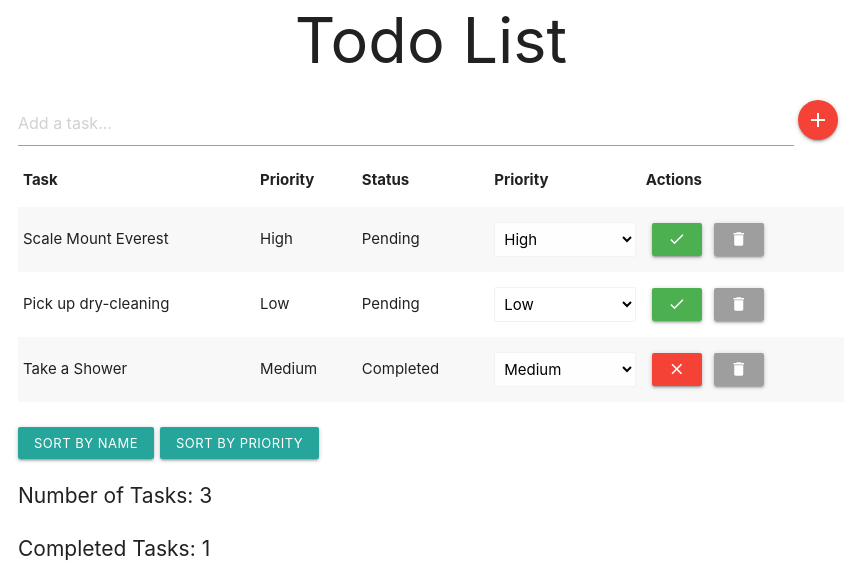
Test case: App › should tell the user that there are no items when all tasks have been deleted
Click the button with id "delete-item".
click(739, 370)  # box [714, 353, 764, 386]
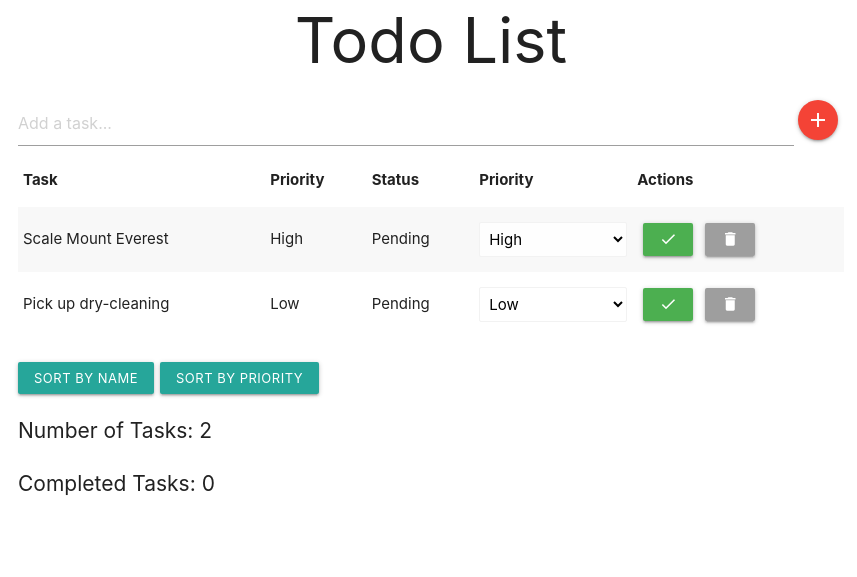
Click the button with id "delete-item".
click(730, 304)  # box [705, 288, 755, 321]
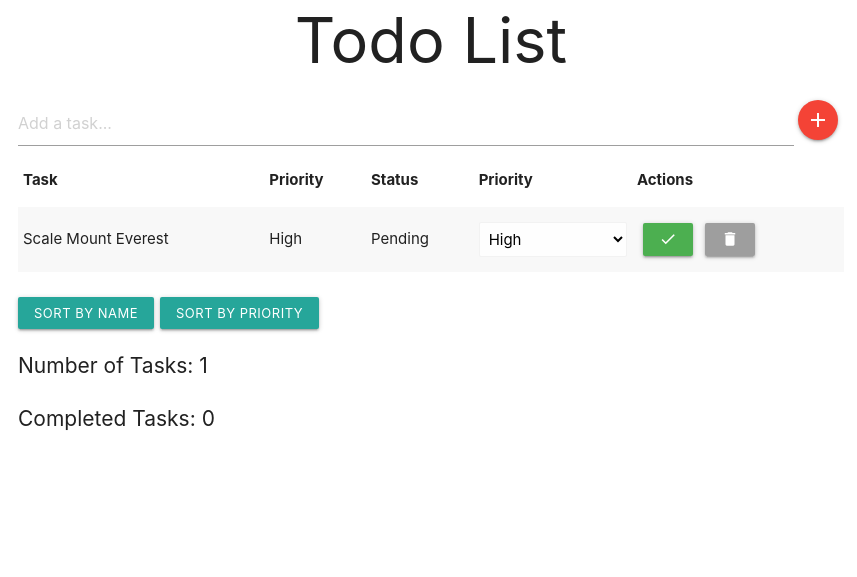
Click the button with id "delete-item".
click(730, 240)  # box [705, 223, 755, 256]
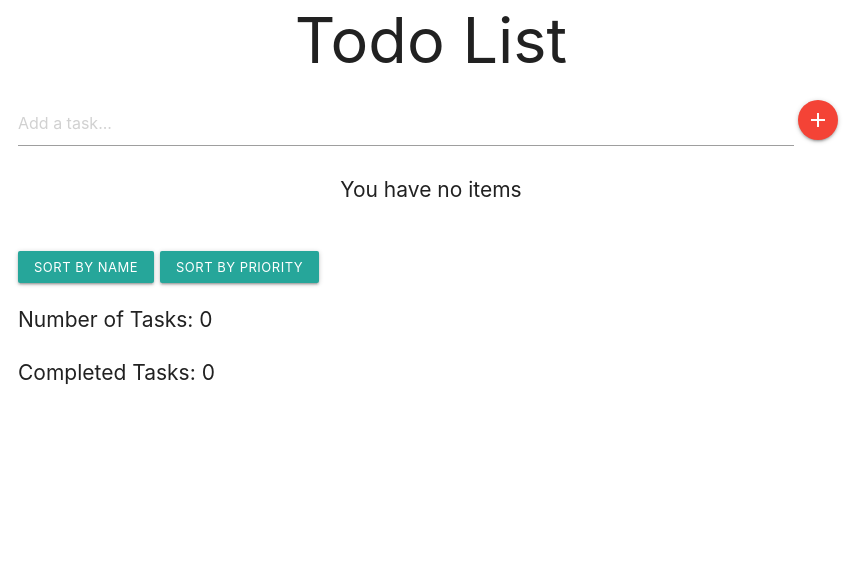
Expected: no rows are shown
Expected: the number of elements with class "no-items" is 1, [340, 178, 522, 202]
